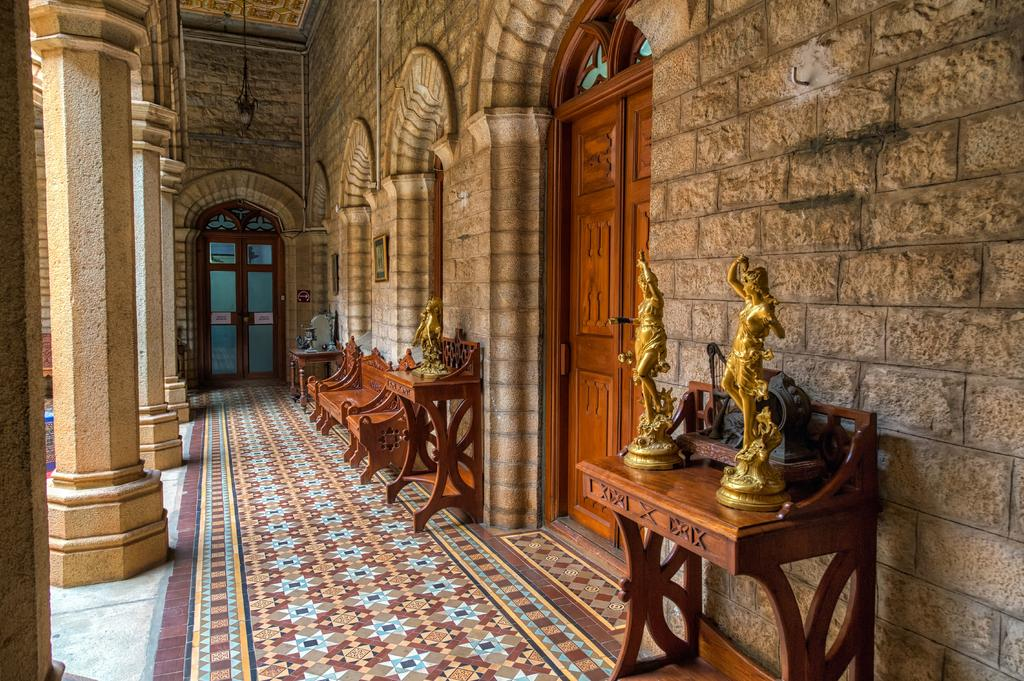Chair: (345, 350, 419, 485)
